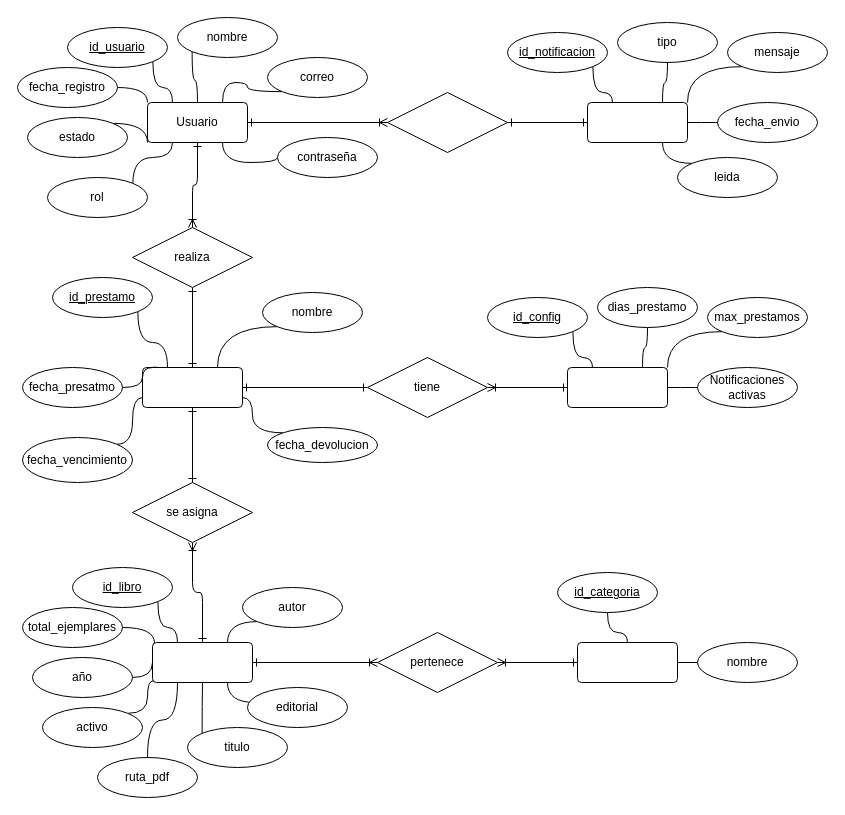
Some shapes in this 845 by 815 pixel diagram are drawn without their labels. Here are the shapes that lost their labels. From the top down, the box of each, then its label:
(386, 92, 508, 152): recibe
(586, 102, 688, 142): Notificacion
(142, 366, 242, 408): Prestamo
(566, 366, 668, 408): Configuracion
(152, 642, 252, 682): Libro
(576, 642, 678, 682): Categoria
